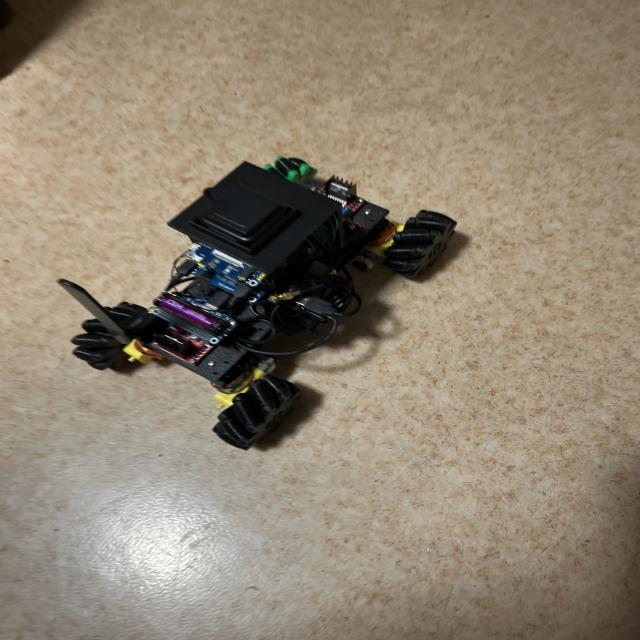robot: (58, 157, 456, 450)
